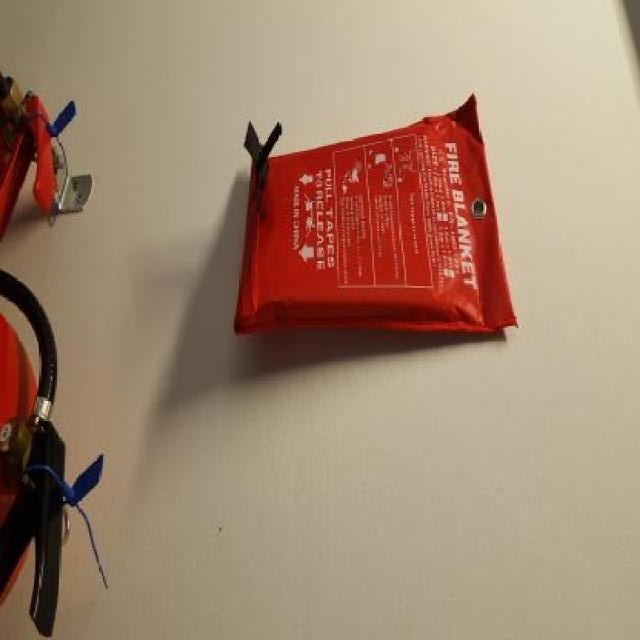fire extinguisher: (3, 267, 66, 636), (3, 73, 54, 238)
